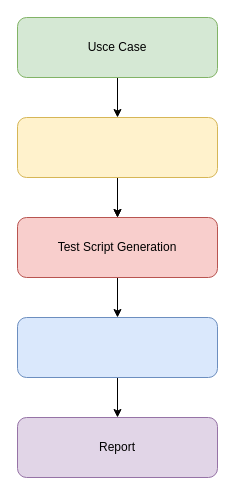
The diagram is 235 pixels wide and 495 high, and some of its shapes have lost their labels. Each missing label, with the centre of its shape:
Test Case Generation: (117,147)
Test Execution: (117,347)
